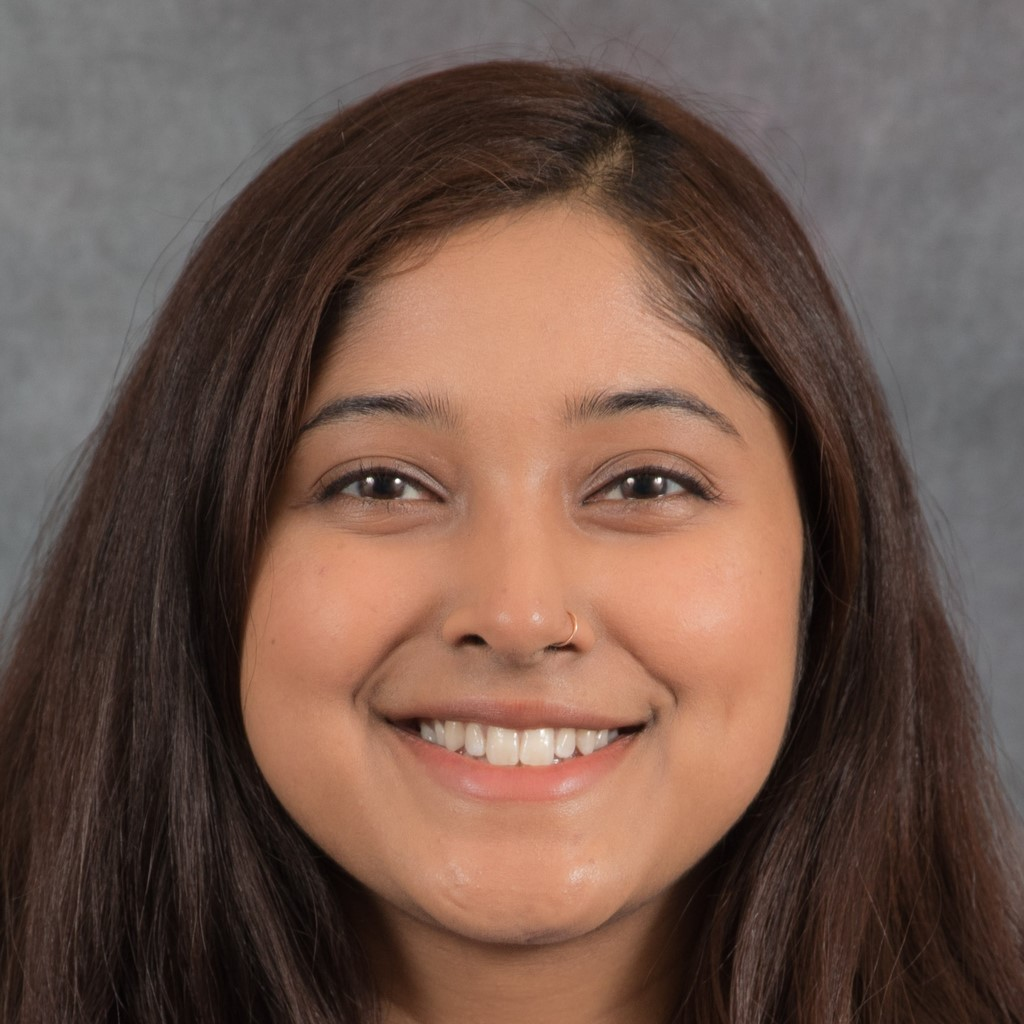sin_mascara: (227, 137, 809, 949)
